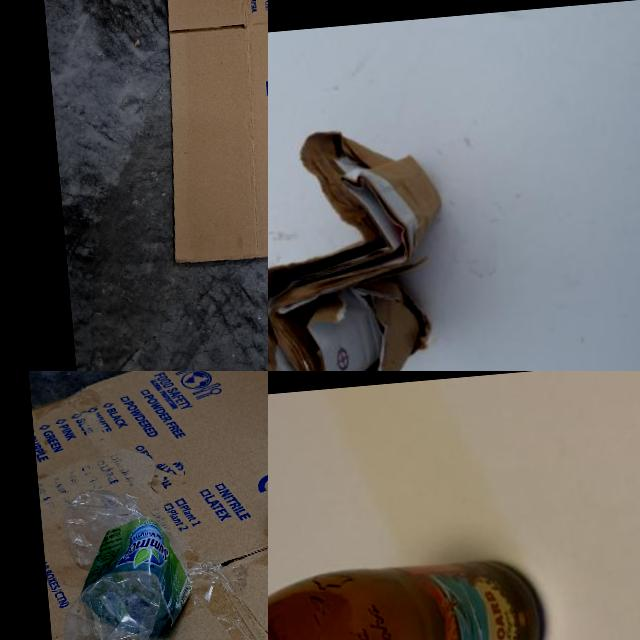garrafa de vidro: (268, 551, 554, 640)
garrafa plástica: (37, 482, 199, 640)
papelão: (23, 371, 268, 640), (268, 120, 460, 371), (142, 0, 268, 284)
